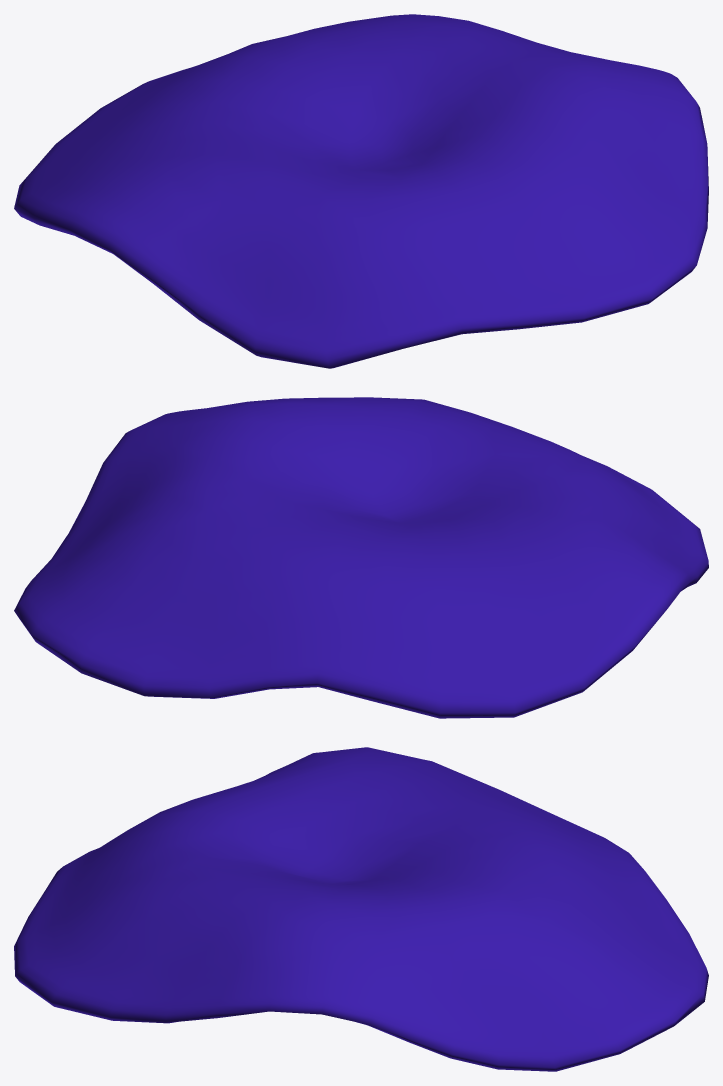
3 renders of one model, top to bottom at view 1: azimuth 30°, elevation 25°; view 2: azimuth 150°, elevation 25°; view 3: azimuth 270°, elevation 25°, orthographic. The views are drawn at different scales.
Parts seen in each view (by area): view 1: coral_plane_1_retop; view 2: coral_plane_1_retop; view 3: coral_plane_1_retop.
Part boxes in pixels (left/top/right/bottom): coral_plane_1_retop: left=14, top=14, right=708, bottom=368; coral_plane_1_retop: left=14, top=397, right=708, bottom=718; coral_plane_1_retop: left=14, top=747, right=708, bottom=1071.
Bounding box in the file's own units: 109 × 23.19 × 115.
